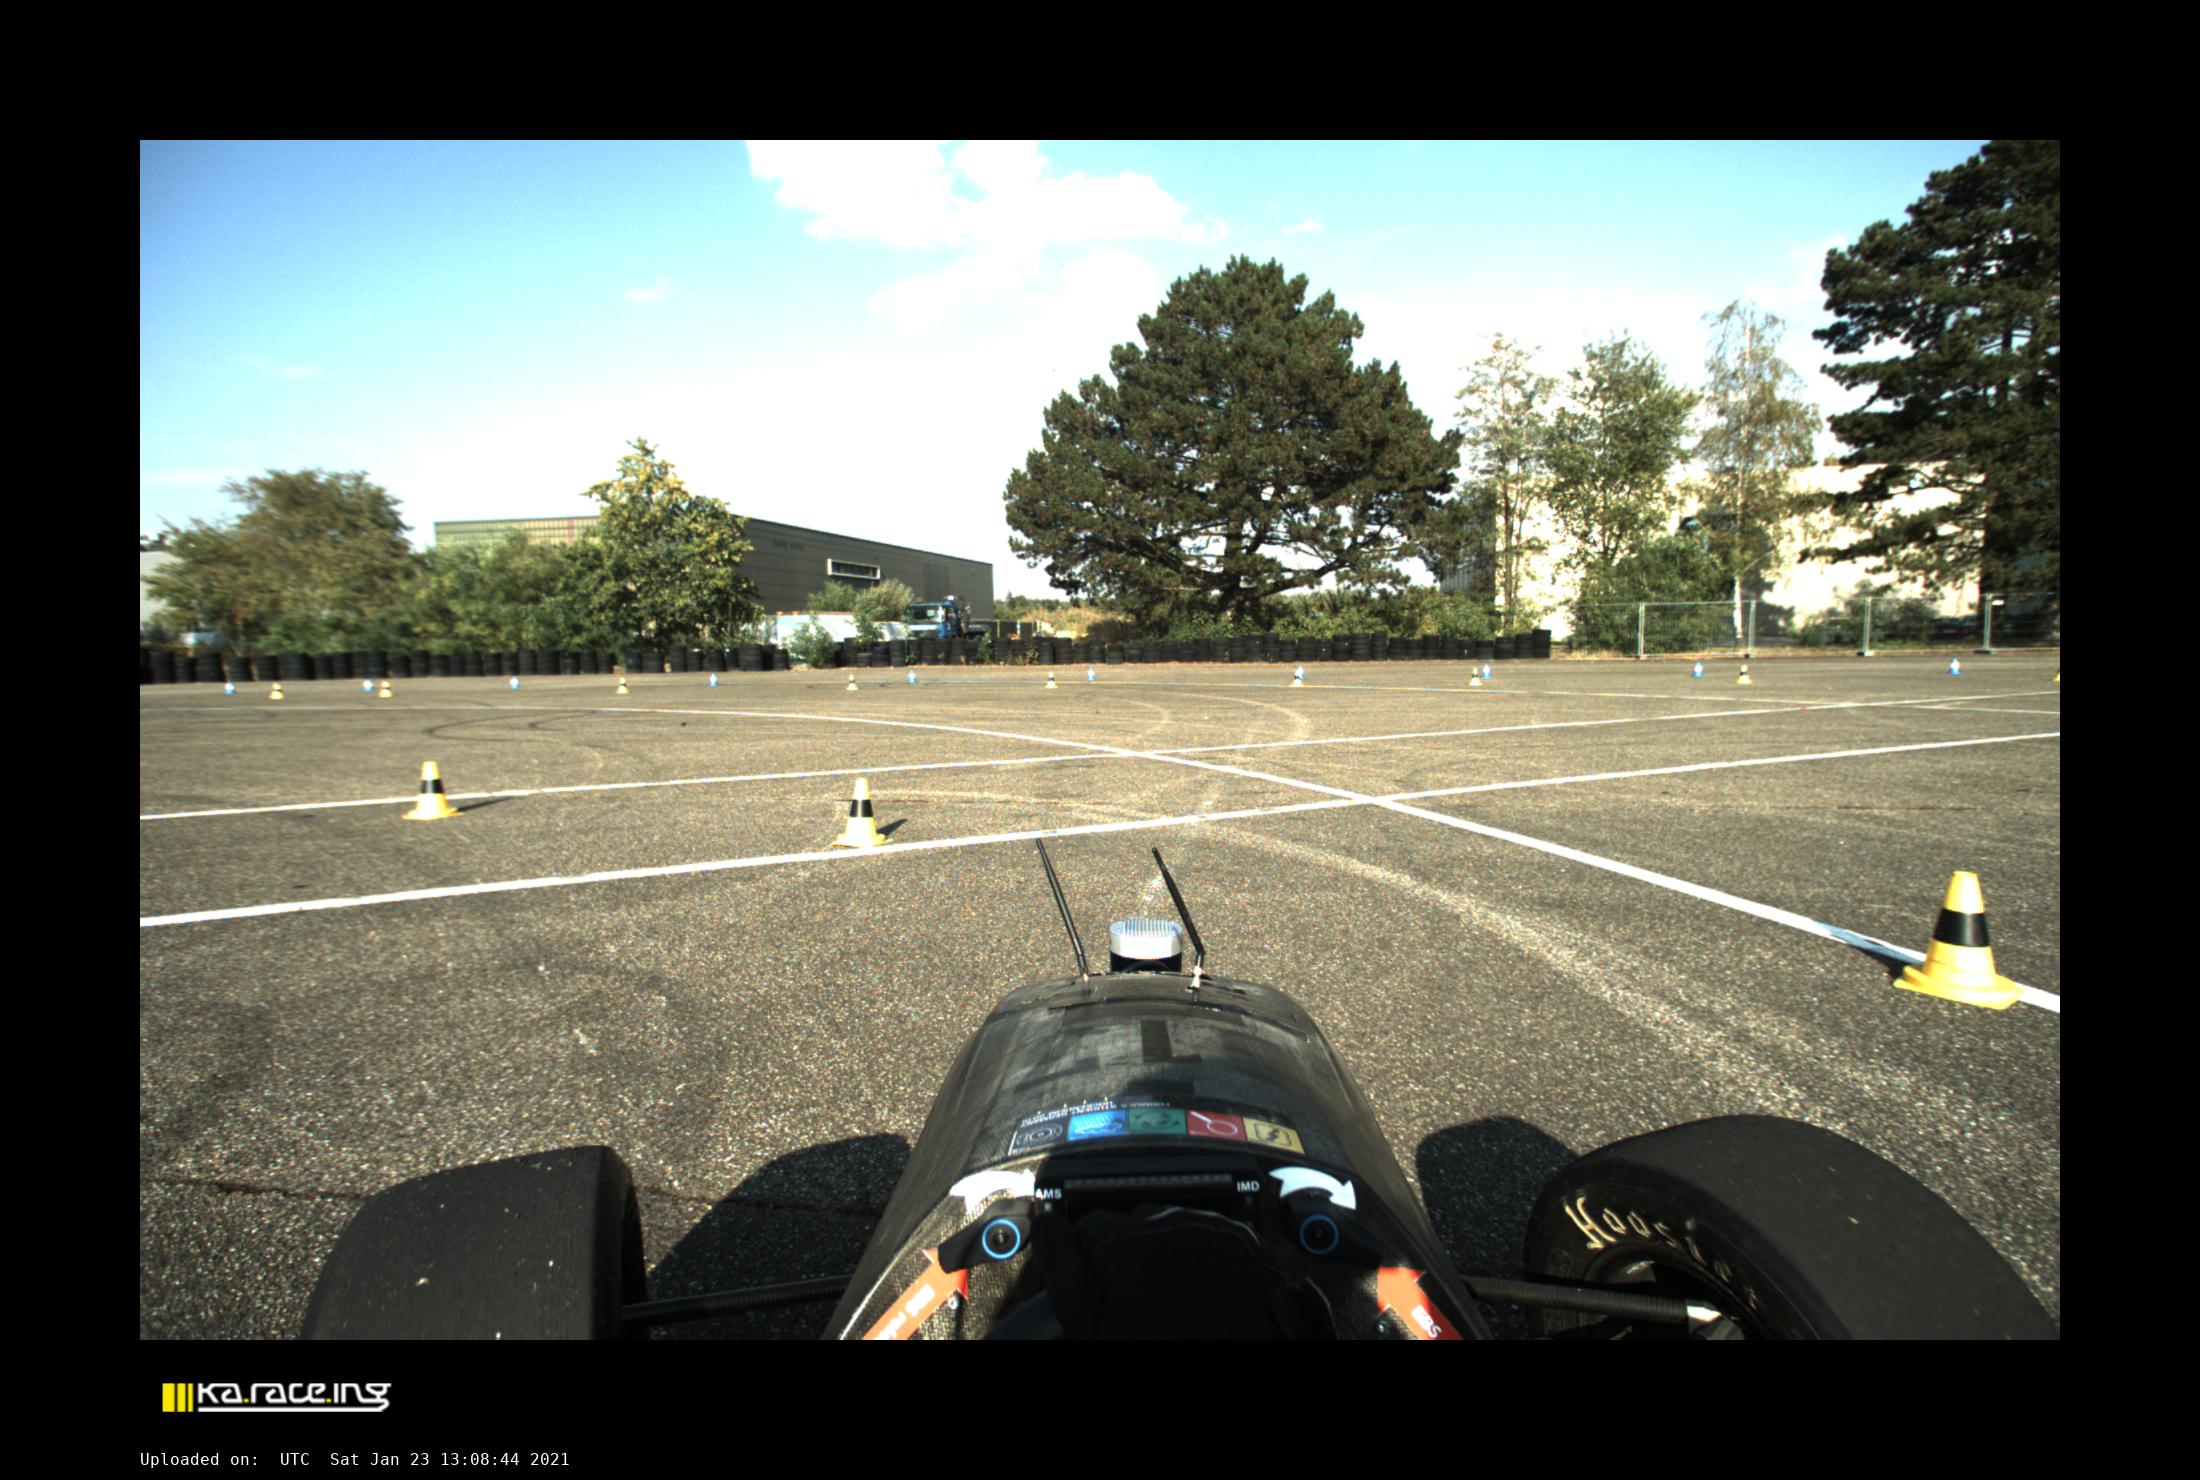blue_cone: (1947, 657, 1962, 674), (1691, 662, 1705, 677), (223, 681, 235, 694), (1482, 664, 1491, 677), (709, 672, 718, 685), (509, 677, 519, 689), (363, 679, 373, 690), (1297, 666, 1305, 679), (1087, 667, 1095, 681), (908, 671, 917, 682)
yellow_cone: (1893, 870, 2025, 1011), (831, 776, 894, 849), (401, 761, 466, 821), (1736, 666, 1752, 682), (269, 682, 284, 700), (1468, 667, 1483, 685), (378, 681, 391, 699), (1045, 672, 1057, 689), (846, 676, 857, 690), (618, 677, 628, 694)
